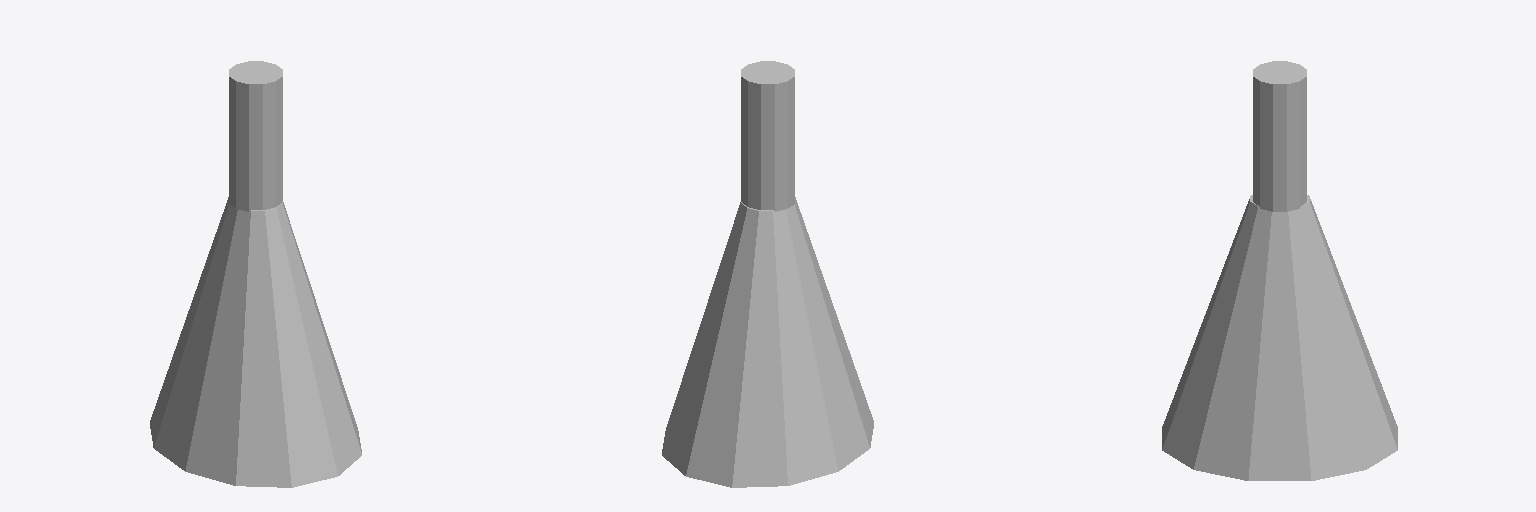
The model's file is Potion Bottle #4 Hole.obj.
The picture shows the model from 3 angles: view 1: azimuth 30°, elevation 25°; view 2: azimuth 150°, elevation 25°; view 3: azimuth 270°, elevation 25°; orthographic projection.
Parts seen in each view (by area): view 1: Body, Neck Hole; view 2: Body, Neck Hole; view 3: Body, Neck Hole.
Part boxes in pixels (x1,y1,x2,y2): Body: (150, 197, 361, 487); Neck Hole: (229, 61, 282, 211); Body: (662, 197, 873, 487); Neck Hole: (741, 61, 794, 211); Body: (1162, 195, 1397, 480); Neck Hole: (1253, 61, 1306, 211).
Size of the model in its own units: 0.6875 by 1.39 by 0.8125.